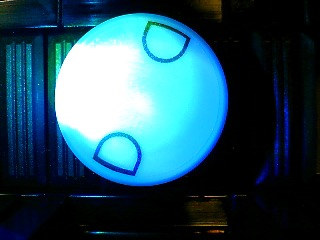MIPO2: (54, 11, 229, 186)
